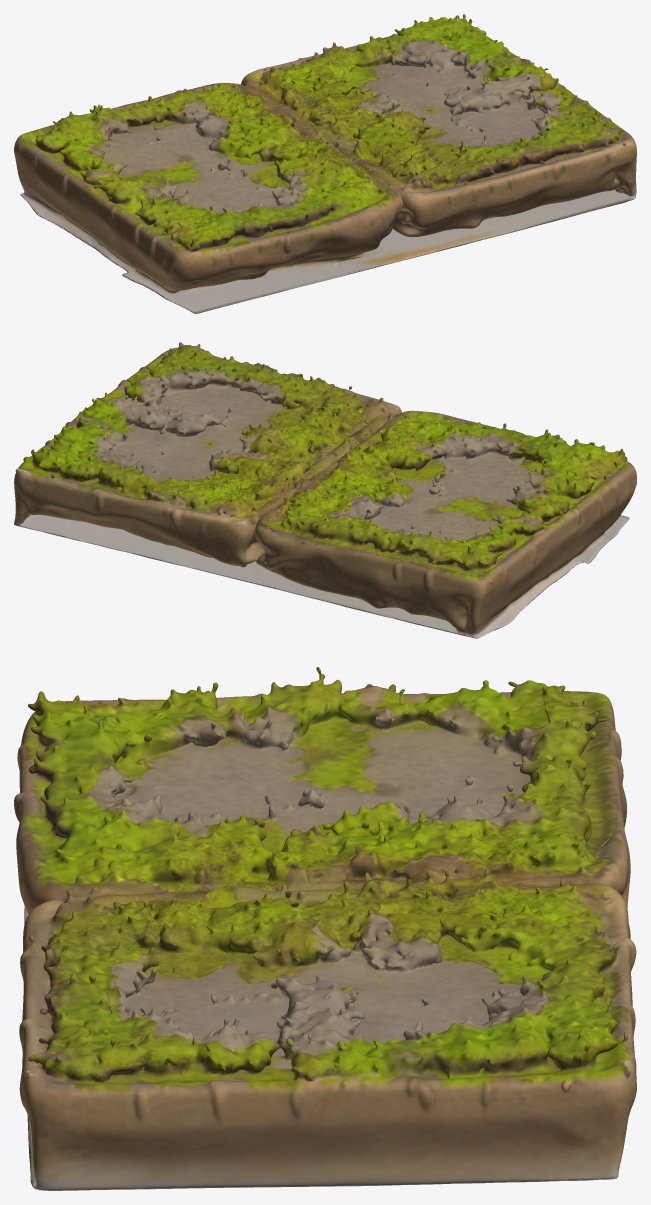
The model's file is soil+block+planter+3d+model.glb.
3 views of the same model, one above another, from view 1: azimuth 30°, elevation 25°; view 2: azimuth 150°, elevation 25°; view 3: azimuth 270°, elevation 25° (orthographic). The views are drawn at different scales.
Parts seen in each view (by area): view 1: tripo_node_5c424699-0769-4213-94c2-6a8a16f43f94; view 2: tripo_node_5c424699-0769-4213-94c2-6a8a16f43f94; view 3: tripo_node_5c424699-0769-4213-94c2-6a8a16f43f94.
Boxes of the visible parts, x1,y1,x2,y2 form: tripo_node_5c424699-0769-4213-94c2-6a8a16f43f94: [14, 14, 636, 313]; tripo_node_5c424699-0769-4213-94c2-6a8a16f43f94: [14, 342, 636, 638]; tripo_node_5c424699-0769-4213-94c2-6a8a16f43f94: [14, 667, 636, 1190].
Size of the model in its own units: 1 by 0.1713 by 0.6451.
1 material, 1 textured.
